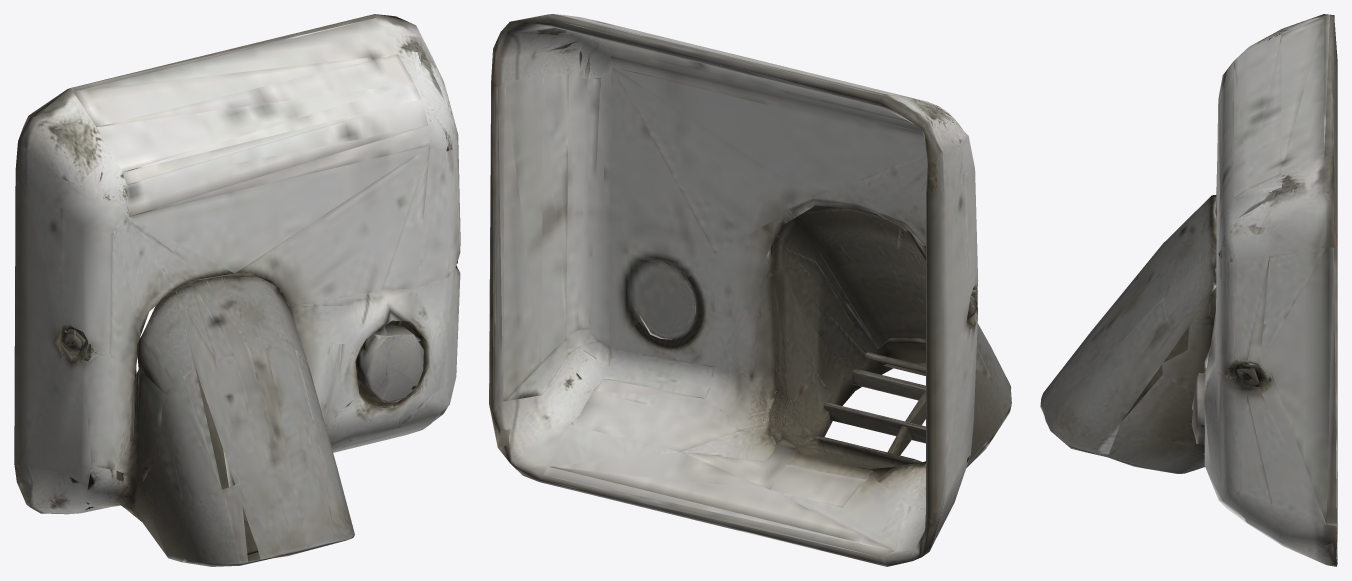
File: p7-hand-dryer-t25.glb
The picture shows the model from 3 angles, left to right: view 1: azimuth 30°, elevation 25°; view 2: azimuth 150°, elevation 25°; view 3: azimuth 270°, elevation 25°; orthographic projection. The views are drawn at different scales.
Visible parts, largest first — view 1: p7-hand-dryer-t25; view 2: p7-hand-dryer-t25; view 3: p7-hand-dryer-t25.
Part boxes in pixels (x1,y1,x2,y2): p7-hand-dryer-t25: (14,14,460,566); p7-hand-dryer-t25: (489,14,1011,566); p7-hand-dryer-t25: (1040,14,1337,566).
Size of the model in its own units: 0.3 by 0.3 by 0.2.
1 material, 1 textured.
